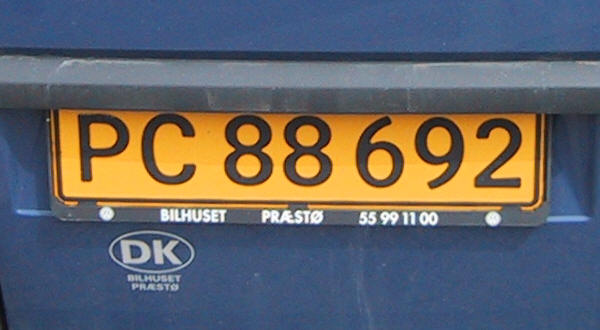license_plate: (51, 104, 547, 211)
